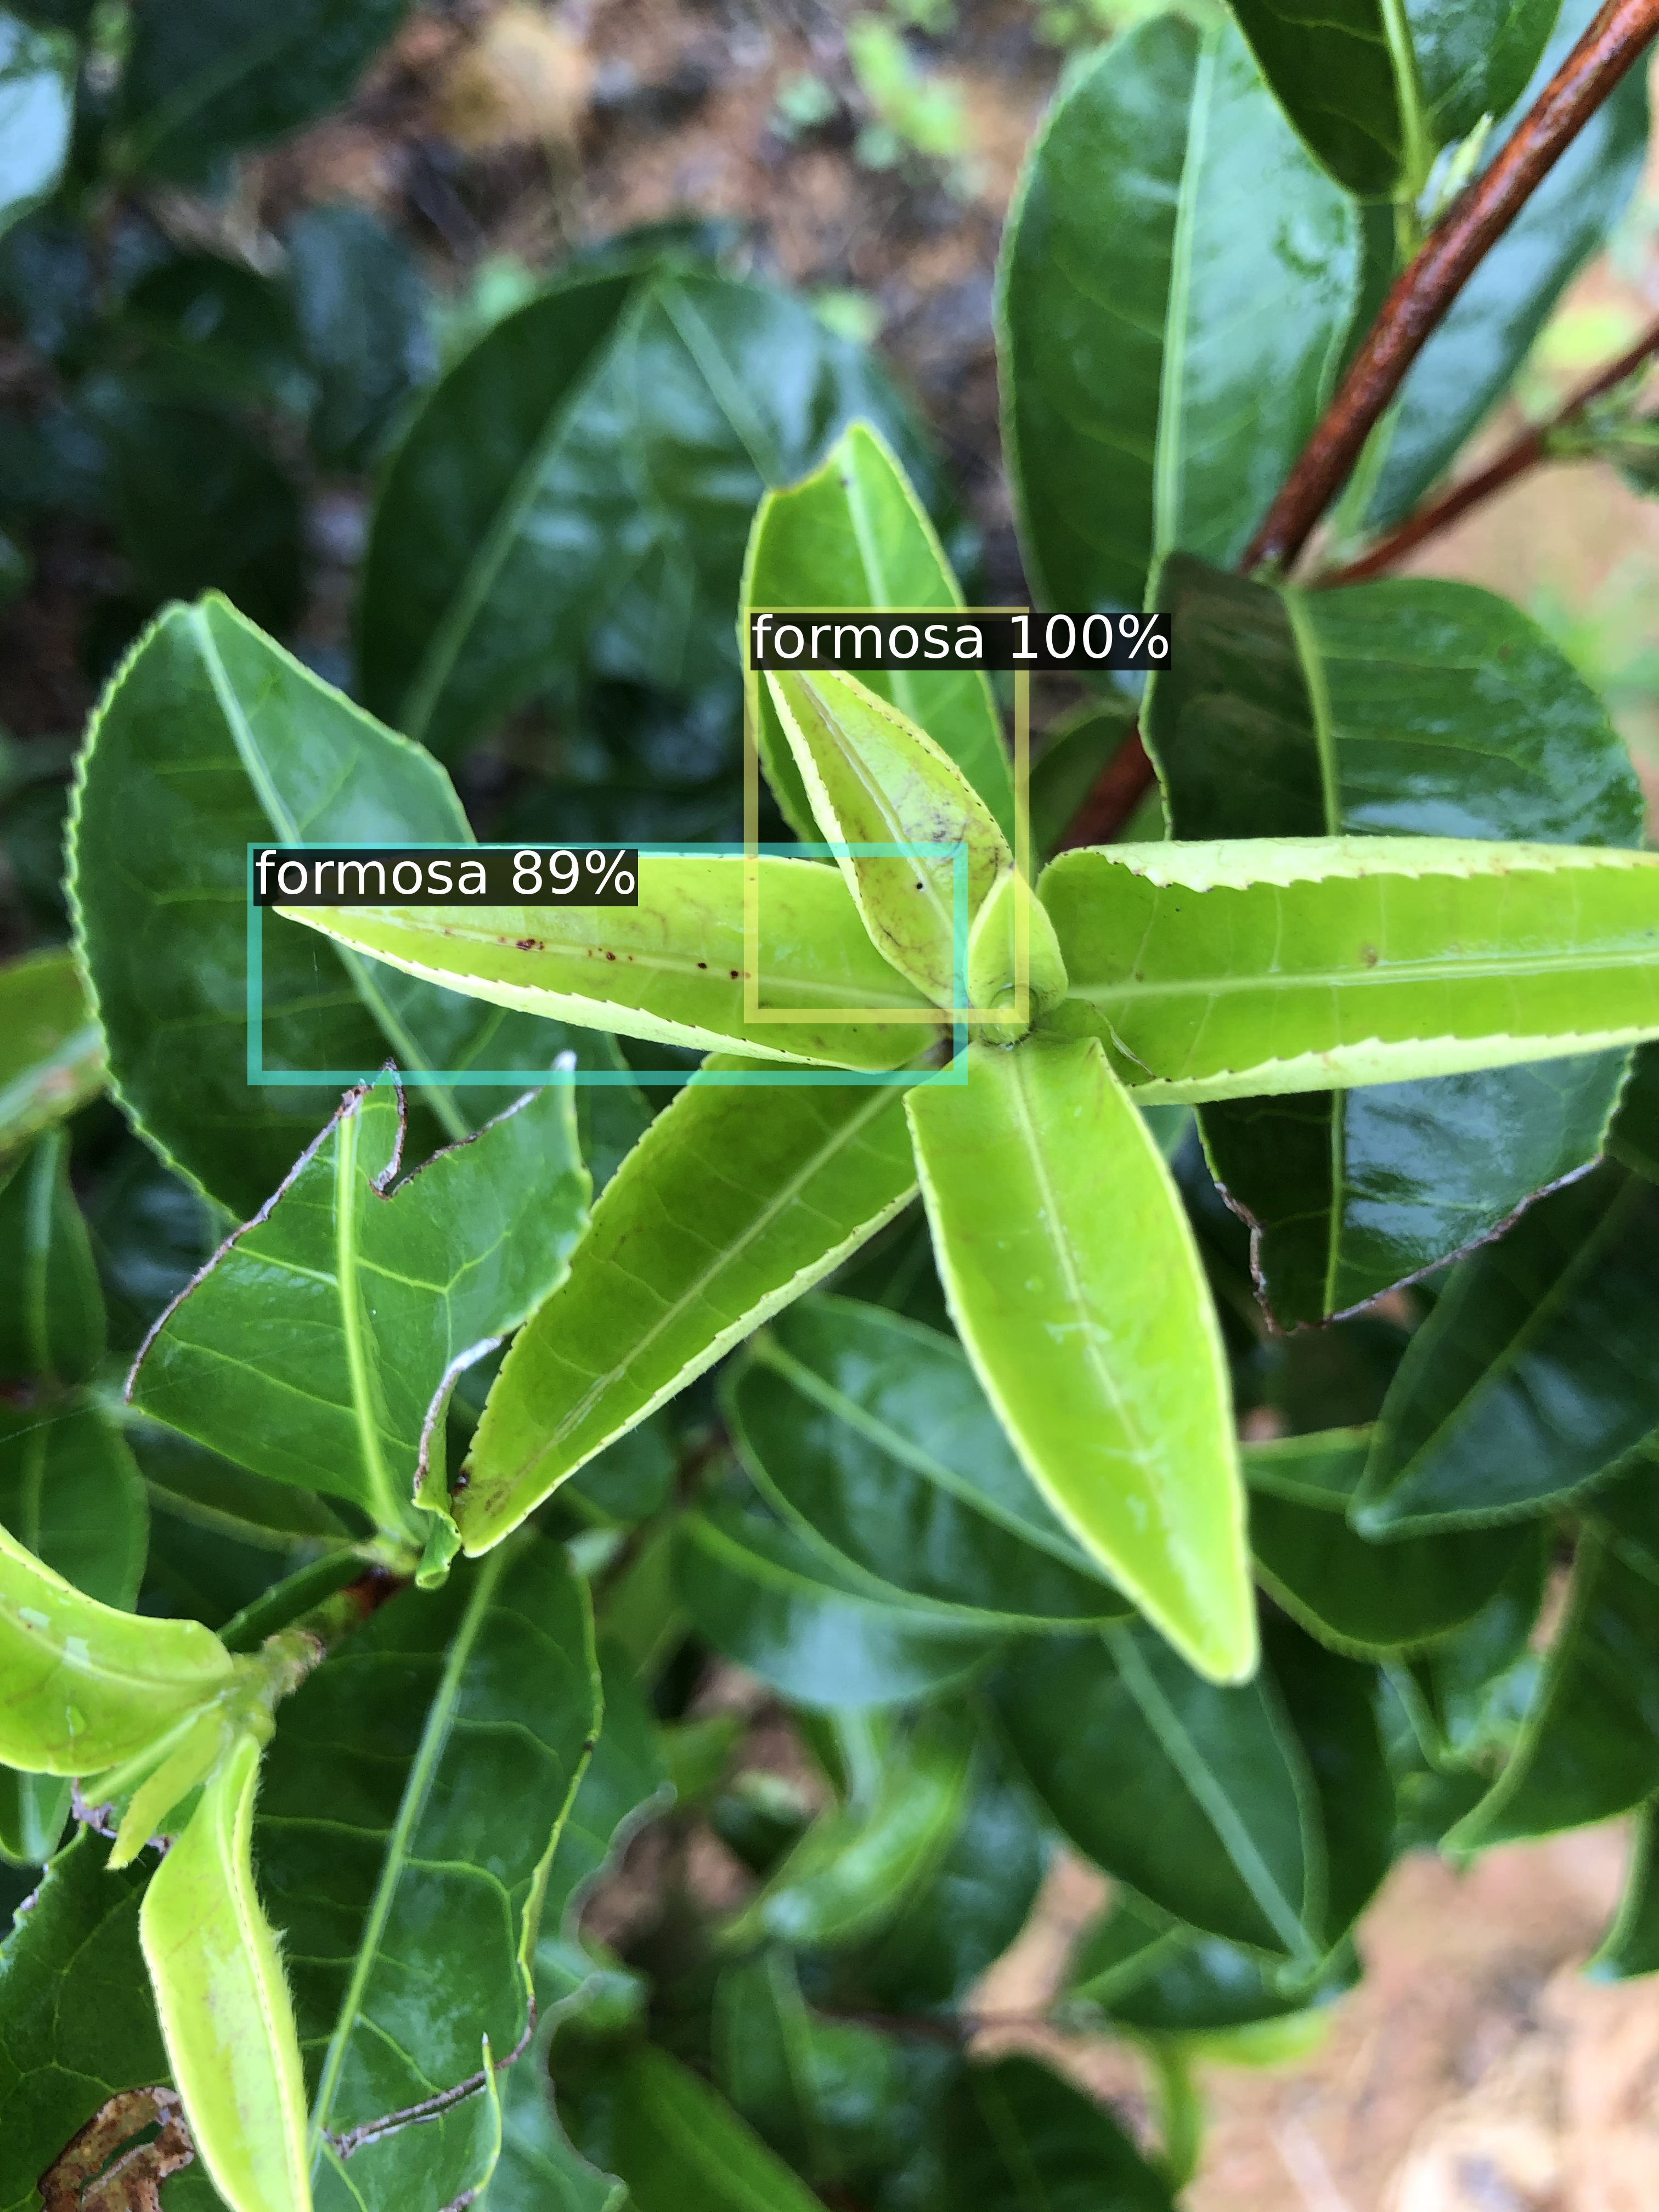formosa: (254, 850, 960, 1078), (751, 613, 1021, 1015)
